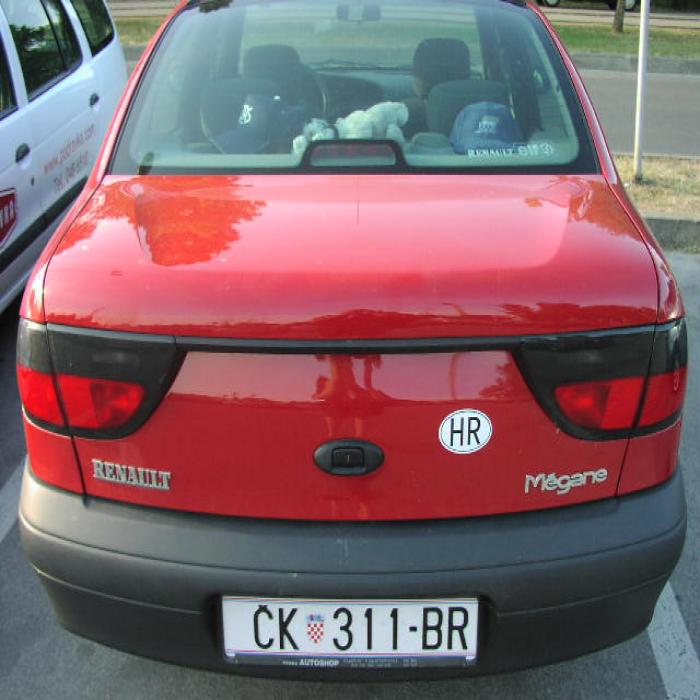number_plate: (223, 596, 476, 655)
